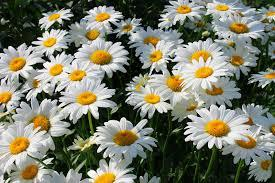chamomile: (189, 110, 240, 148), (24, 103, 65, 142), (77, 42, 123, 76), (60, 82, 107, 114), (98, 128, 151, 154), (0, 129, 36, 164), (241, 103, 275, 137), (0, 45, 35, 77), (61, 61, 100, 88), (226, 132, 263, 160), (180, 63, 224, 85), (69, 24, 110, 47), (76, 165, 127, 183), (196, 86, 237, 107), (161, 71, 192, 98), (42, 52, 67, 85), (32, 30, 66, 54), (180, 44, 218, 65), (222, 18, 260, 38), (137, 83, 162, 113), (7, 160, 41, 181), (0, 74, 17, 115), (85, 7, 120, 26), (40, 9, 68, 32), (226, 48, 252, 72), (171, 2, 204, 18), (145, 49, 172, 66), (209, 3, 244, 16), (138, 32, 170, 45), (120, 20, 143, 36), (259, 71, 275, 87)
